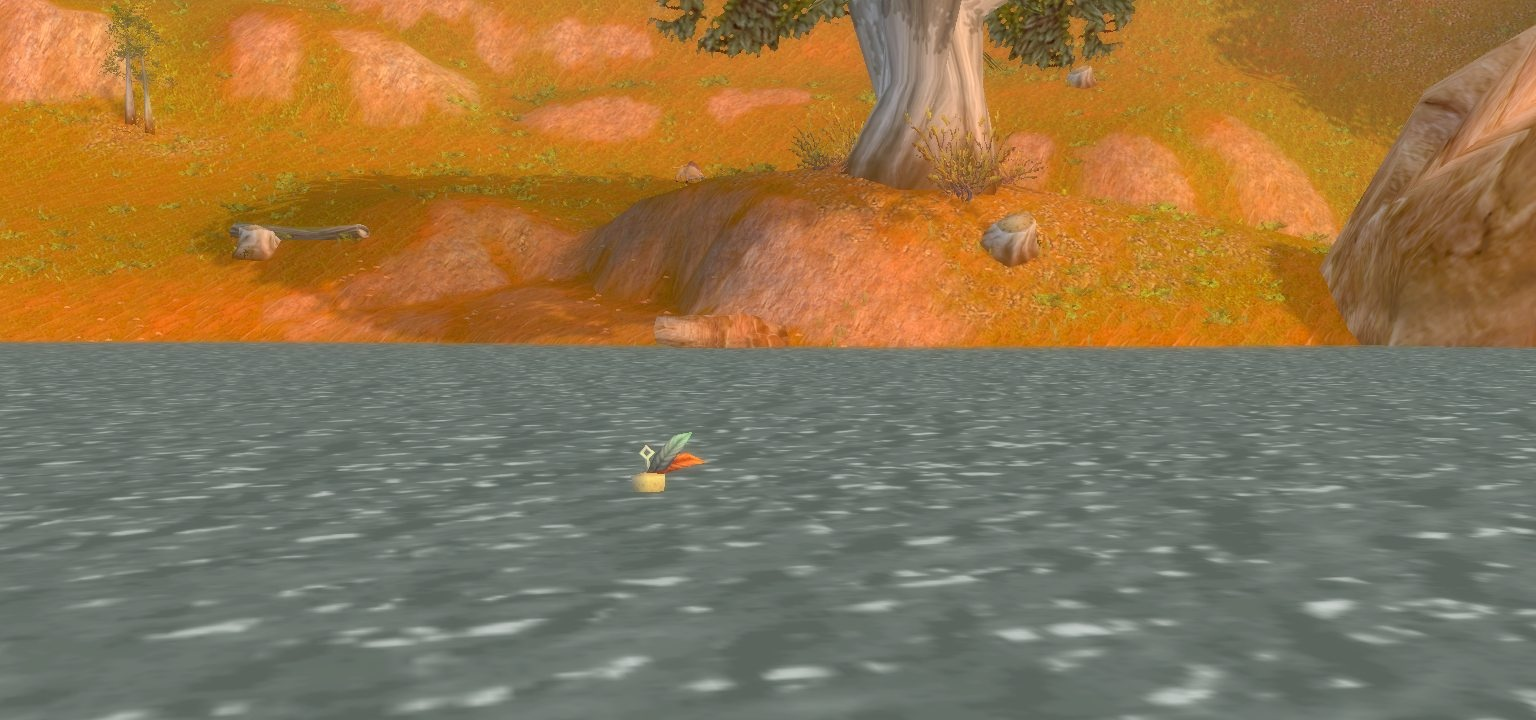Bobber: (634, 429, 707, 495)
